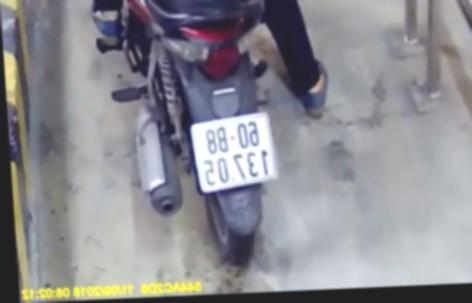License_Plate: (186, 108, 281, 195)
